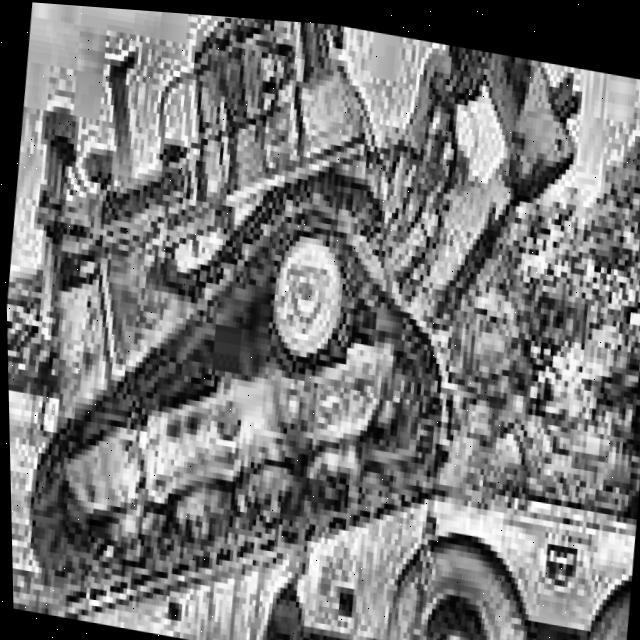buldozerpayloadergrader: (0, 0, 604, 640)
